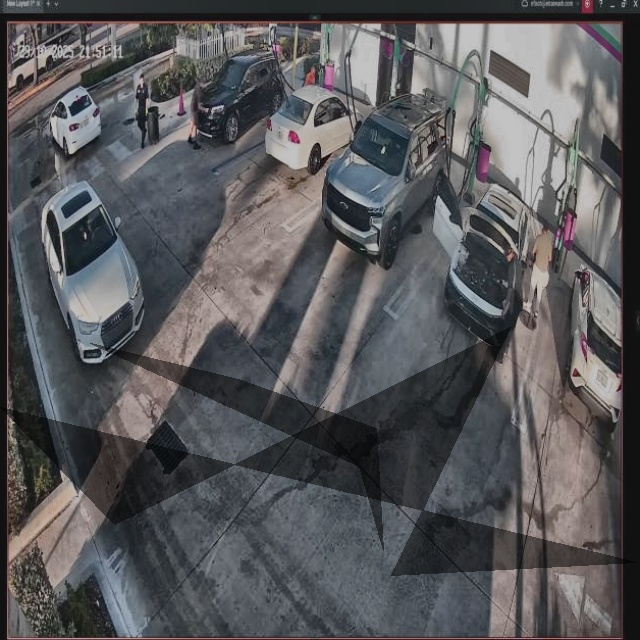Car: (323, 98, 449, 270), (441, 167, 530, 346), (268, 88, 363, 173)
